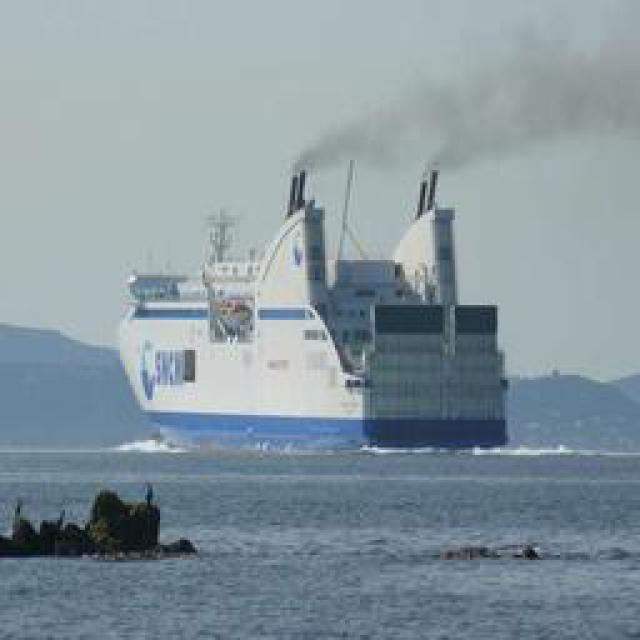Ship: (121, 161, 539, 439)
